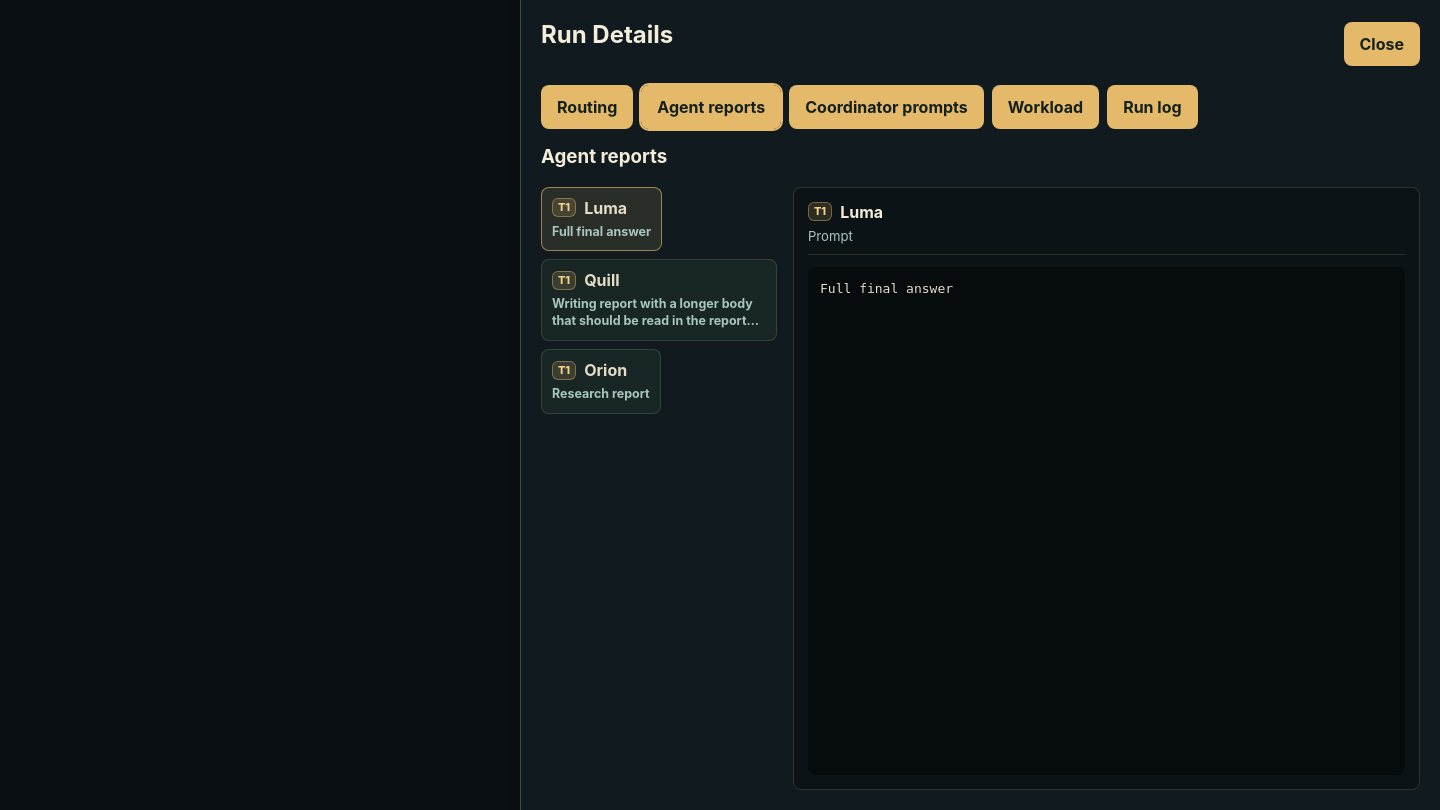
Test: RunDetailDrawer › renders run log, prompts, and report reader tabs without final/raw Codex tabs
Click the tab "Run log" at (1152,107), box [1107,85,1198,129]
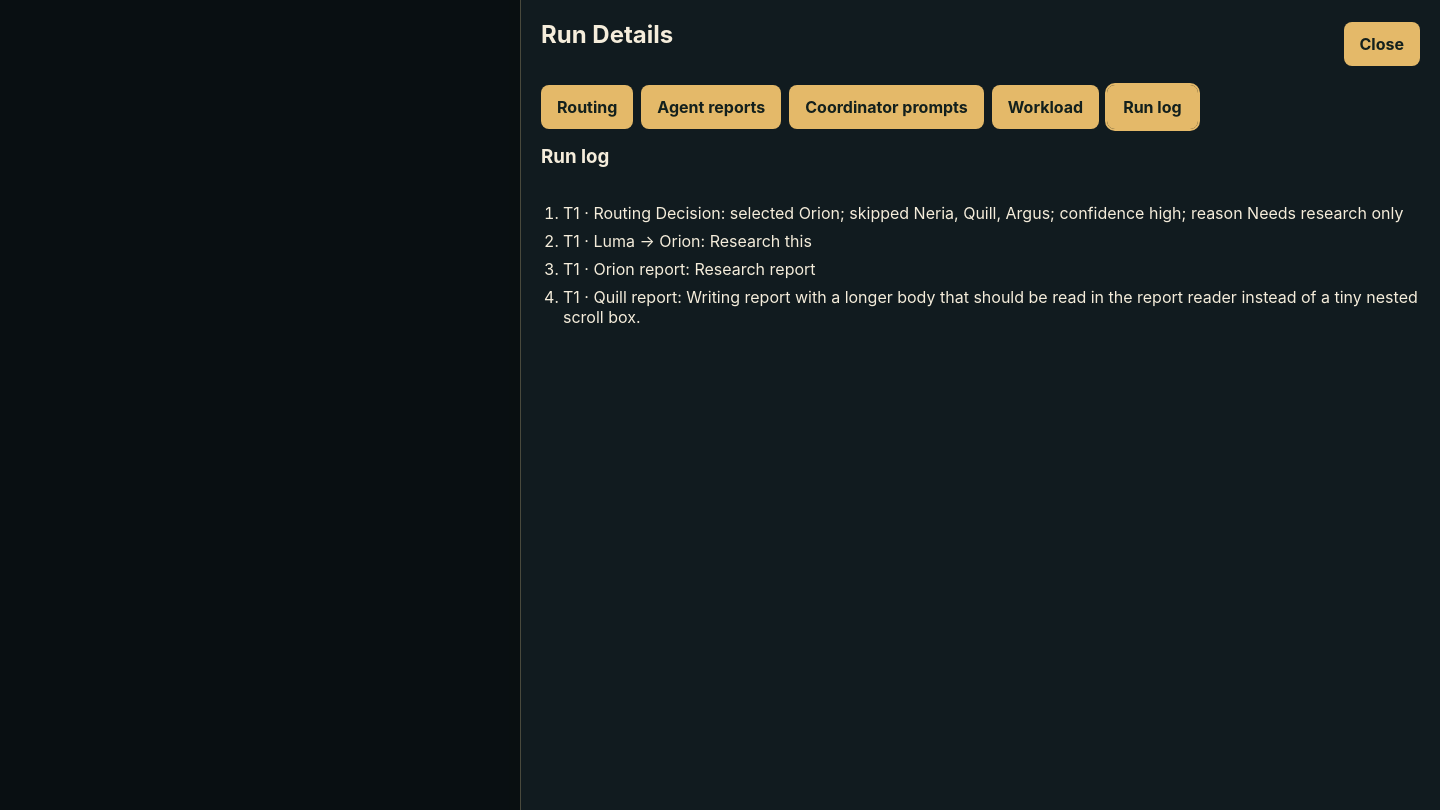
Expected: the list item "T1 · Luma -> Orion: Research this" is shown, [563,231,812,251]
Expected: the list item "T1 · Orion report: Research report" is shown, [563,259,816,279]
Click the tab "Routing" at (587,107), box [541,85,633,129]
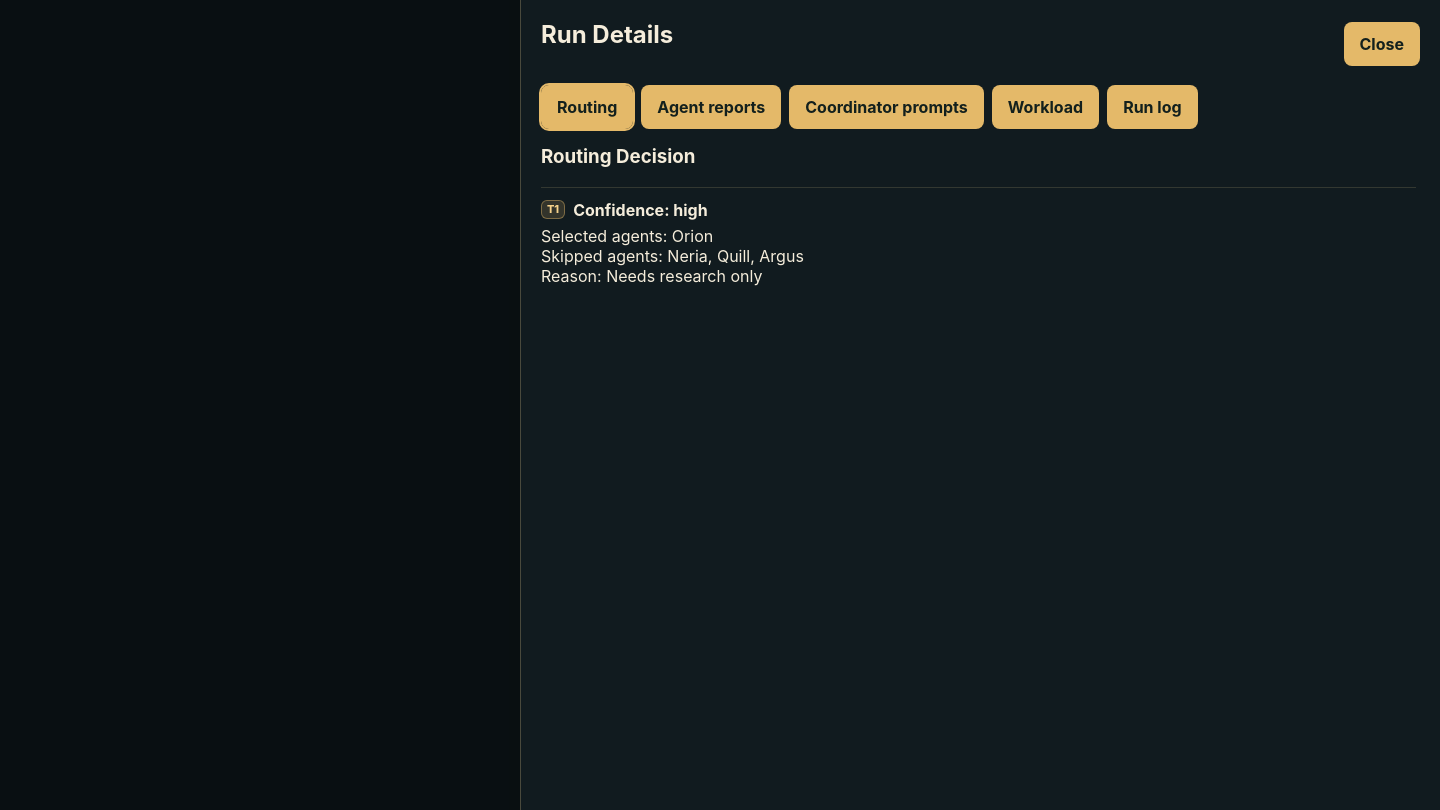
Expected: the text "Skipped agents: Neria, Quill, Argus" is shown, [541,226,804,286]
Click the tab "Coordinator prompts" at (887,107), box [789,85,984,129]
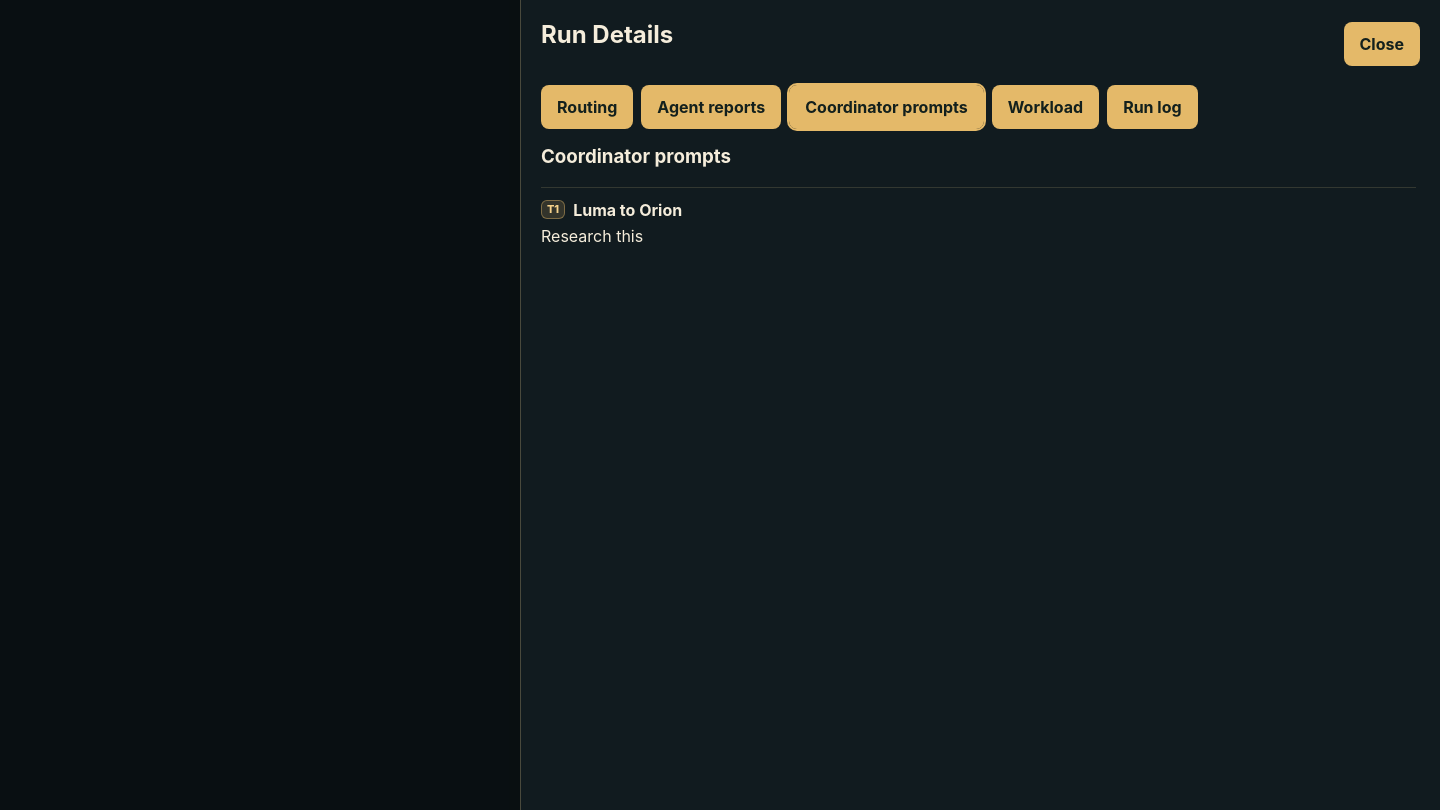
Expected: the text "Research this" is shown, [541,226,643,246]
Click the tab "Agent reports" at (711,107), box [641,85,781,129]
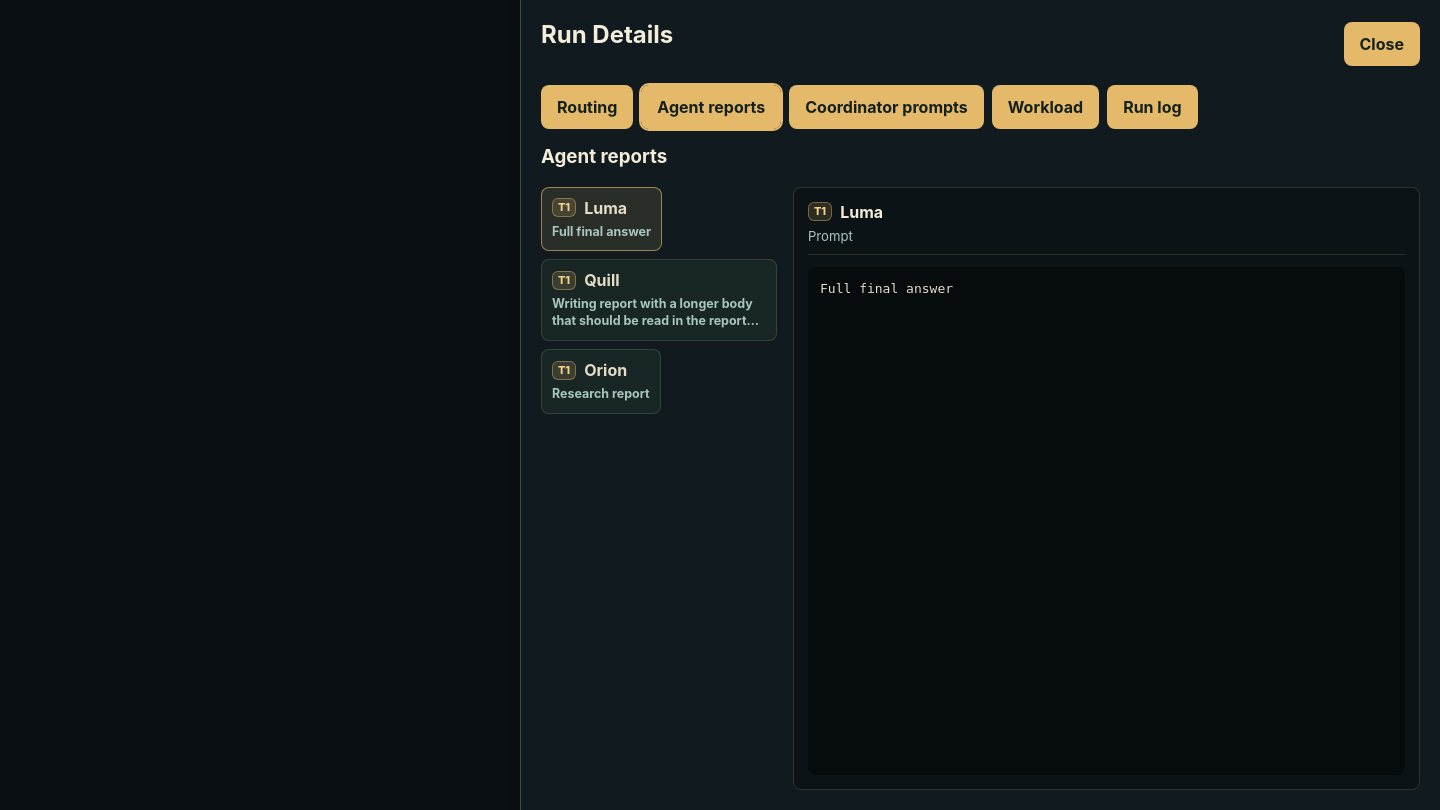
Expected: the button with aria-label "Select T1 Quill report" is shown
Expected: the button with aria-label "Select T1 Orion report" is shown, [541,349,661,414]
Expected: the element named "Selected agent report" shows "T1", [814,204,826,218]
Click the button with aria-label "Select T1 Quill report" at (659,300), box [541,260,777,341]
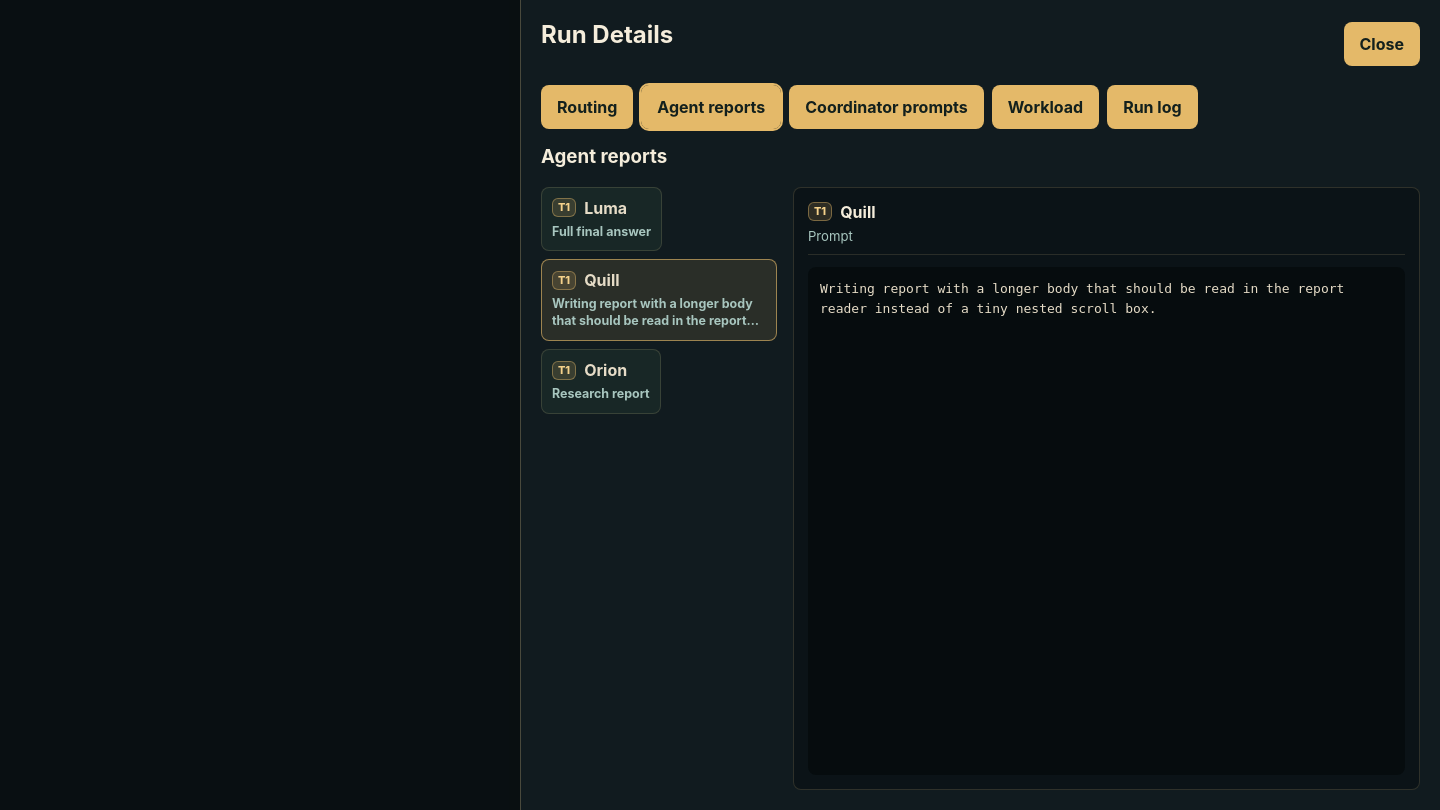
Expected: the element named "Selected agent report" shows "Quill", [840,202,876,222]
Expected: the element named "Selected agent report" shows "Writing report with a longer body", [820,281,1352,316]
Click the button with aria-label "Select T1 Orion report" at (601,382), box [541,349,661,414]
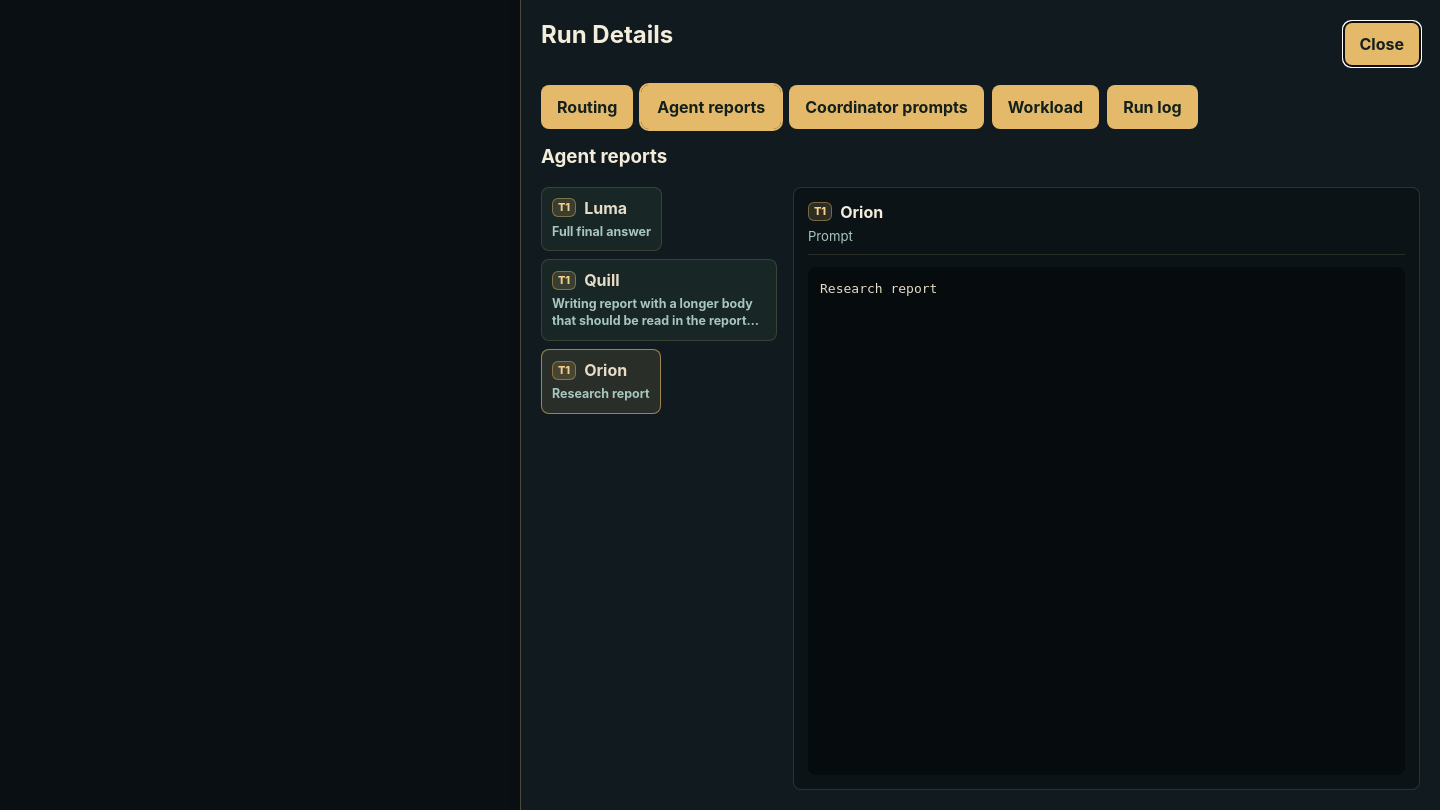
Expected: the element named "Selected agent report" shows "Orion", [840,202,883,222]
Expected: the element named "Selected agent report" shows "Research report", [820,281,937,296]
